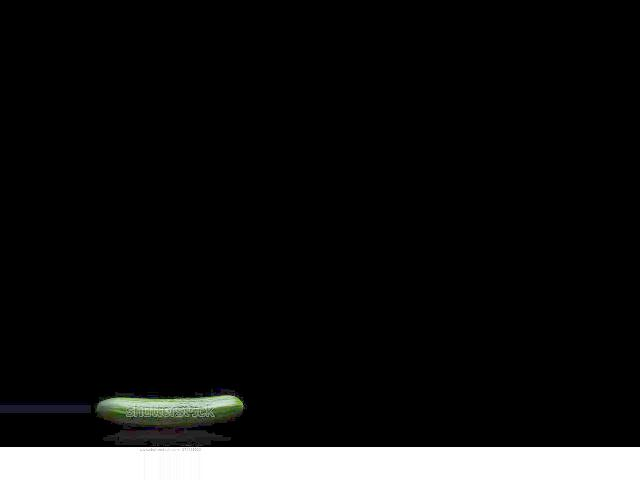cucumber: (97, 396, 244, 418)
